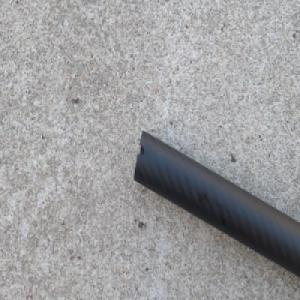LuggagePart: (131, 125, 300, 279)
